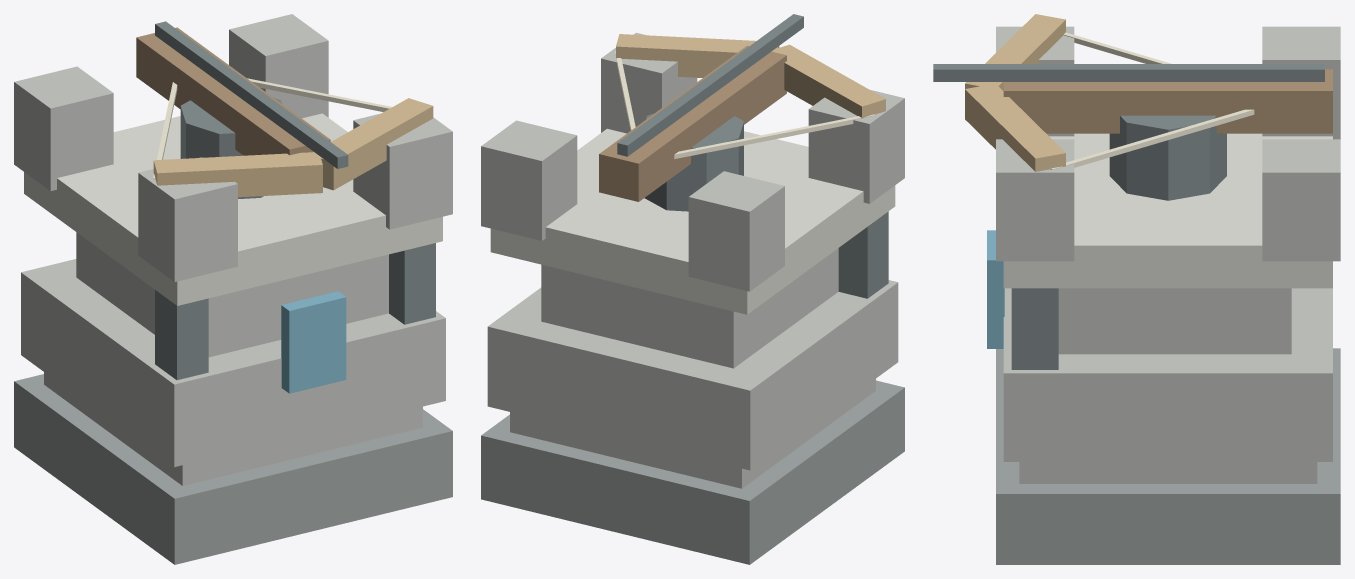
Rendered from human_ballista_t3.glb.
The picture shows the model from 3 angles, left to right: view 1: azimuth 30°, elevation 25°; view 2: azimuth 150°, elevation 25°; view 3: azimuth 270°, elevation 25°; orthographic projection. The views are drawn at different scales.
Visible parts, largest first — view 1: human_ballista_t3_MAT_stone, human_ballista_t3_MAT_dark, human_ballista_t3_MAT_light, human_ballista_t3_MAT_iron, human_ballista_t3_MAT_edge, human_ballista_t3_MAT_wood, human_ballista_t3_MAT_blue, human_ballista_t3_MAT_white; view 2: human_ballista_t3_MAT_stone, human_ballista_t3_MAT_dark, human_ballista_t3_MAT_light, human_ballista_t3_MAT_iron, human_ballista_t3_MAT_wood, human_ballista_t3_MAT_edge, human_ballista_t3_MAT_white; view 3: human_ballista_t3_MAT_stone, human_ballista_t3_MAT_dark, human_ballista_t3_MAT_light, human_ballista_t3_MAT_iron, human_ballista_t3_MAT_wood, human_ballista_t3_MAT_edge, human_ballista_t3_MAT_white, human_ballista_t3_MAT_blue.
Part boxes in pixels (x1,y1,x2,y2): human_ballista_t3_MAT_stone: (14,14,452,485); human_ballista_t3_MAT_dark: (14,374,452,564); human_ballista_t3_MAT_light: (24,113,442,305); human_ballista_t3_MAT_iron: (155,21,435,380); human_ballista_t3_MAT_edge: (153,98,433,197); human_ballista_t3_MAT_wood: (136,27,330,155); human_ballista_t3_MAT_blue: (281,291,346,393); human_ballista_t3_MAT_white: (153,78,391,178); human_ballista_t3_MAT_stone: (481,32,904,488); human_ballista_t3_MAT_dark: (481,380,904,564); human_ballista_t3_MAT_light: (490,128,895,314); human_ballista_t3_MAT_iron: (617,14,888,298); human_ballista_t3_MAT_wood: (599,45,786,201); human_ballista_t3_MAT_edge: (616,34,885,118); human_ballista_t3_MAT_white: (615,51,875,158); human_ballista_t3_MAT_stone: (996,26,1340,483); human_ballista_t3_MAT_dark: (996,348,1340,564); human_ballista_t3_MAT_light: (1003,133,1332,288); human_ballista_t3_MAT_iron: (933,64,1324,369); human_ballista_t3_MAT_wood: (1003,69,1332,133); human_ballista_t3_MAT_edge: (965,14,1065,171); human_ballista_t3_MAT_white: (1050,32,1254,169); human_ballista_t3_MAT_blue: (987,230,1004,348).
Size of the model in its own units: 0.88 by 1.2 by 1.04.
